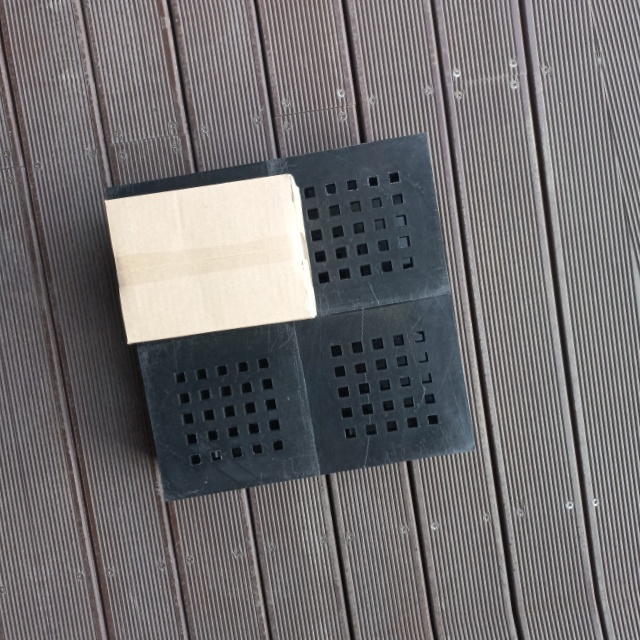box: (102, 171, 316, 347)
pallet: (95, 129, 489, 509)
